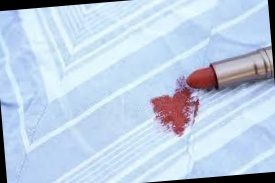lipstick: (150, 71, 205, 140)
